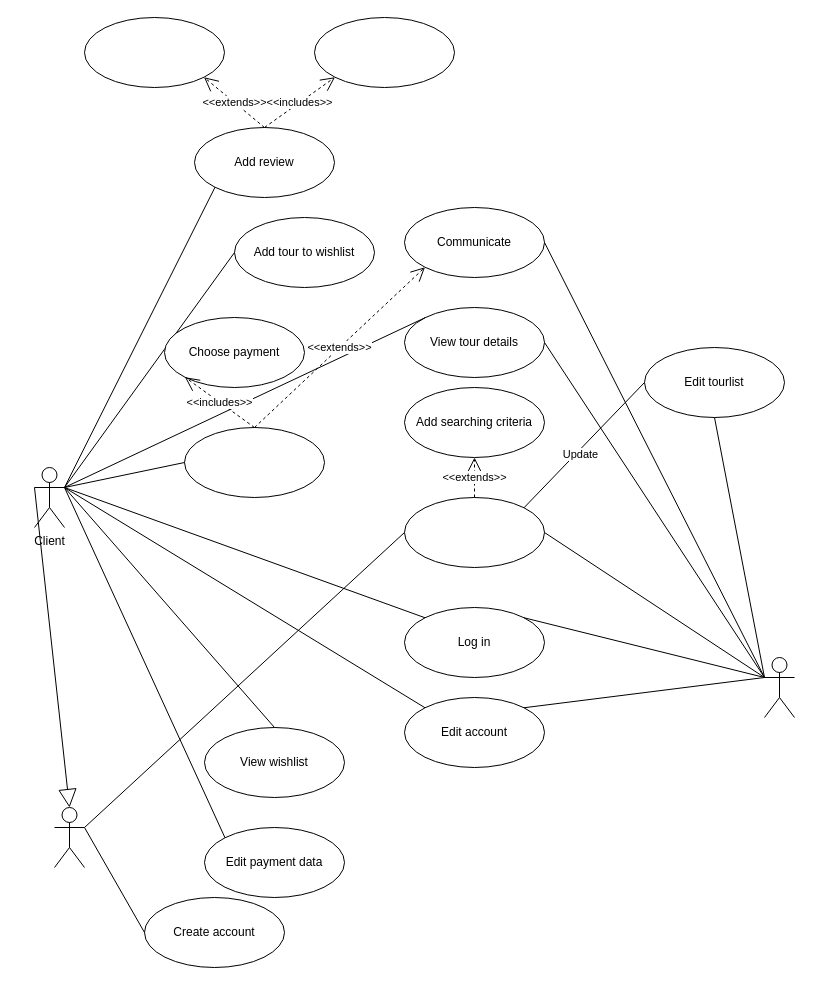
Some shapes in this 825 by 985 pixel diagram are drawn without their labels. Here are the shapes that lost their labels. From the top down, the box of each, then its label:
(84, 16, 224, 88): Add message
(314, 16, 454, 88): Add rating
(184, 426, 324, 498): Book tour
(404, 496, 544, 568): Search tours
(764, 656, 794, 718): Tour agent
(54, 806, 84, 868): Default user
